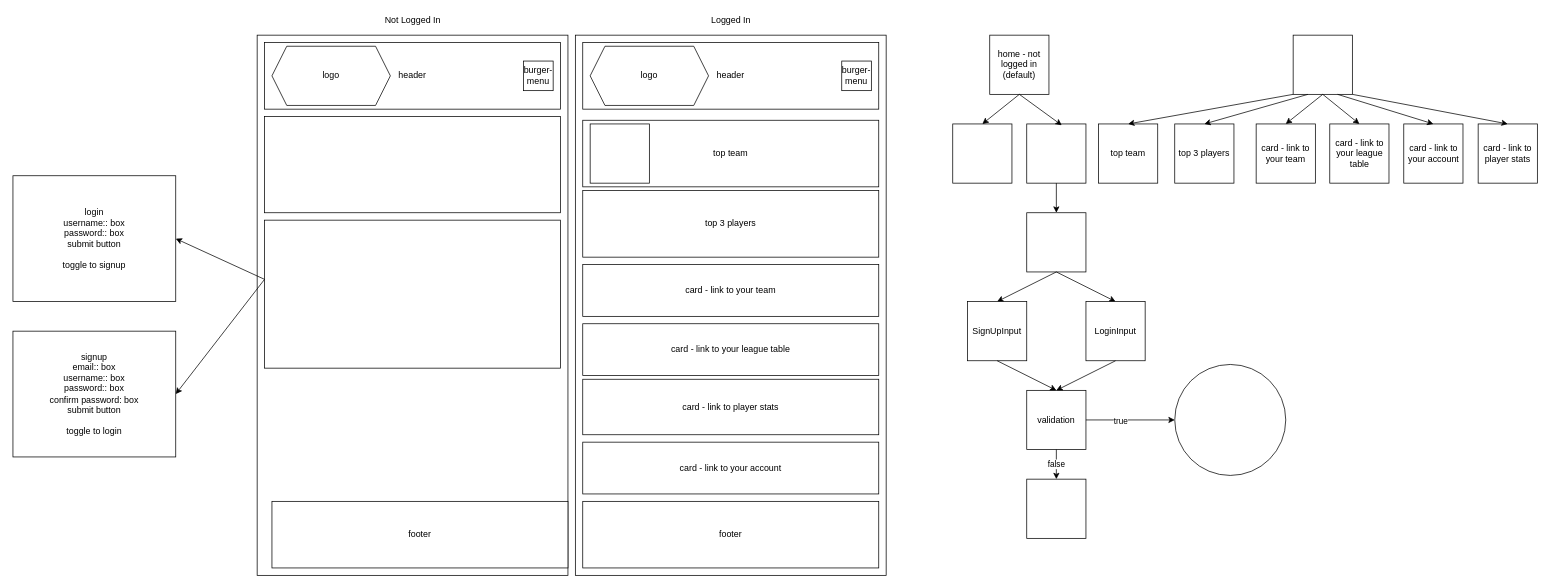
Image size: 1550x588. Some labels were removed from this diagram. Here are the shapes that lost their labels. From the top down, the centre of each, then its label:
the point at 1322,64: home - logged in
the point at 412,164: welcome promo
the point at 619,153: avatar of top team
the point at 982,153: welcome - promo
the point at 1056,153: login
the point at 1056,242: user input collection
the point at 412,293: login/sign-up (toggle)
the point at 1230,419: store
the point at 1056,508: error message modal
